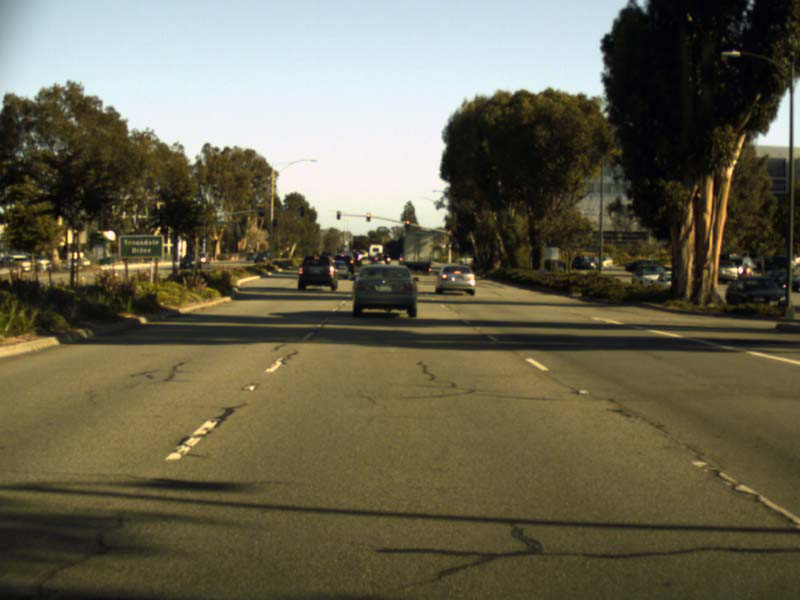Red: (405, 218, 409, 228), (366, 212, 369, 222), (336, 210, 339, 219)
